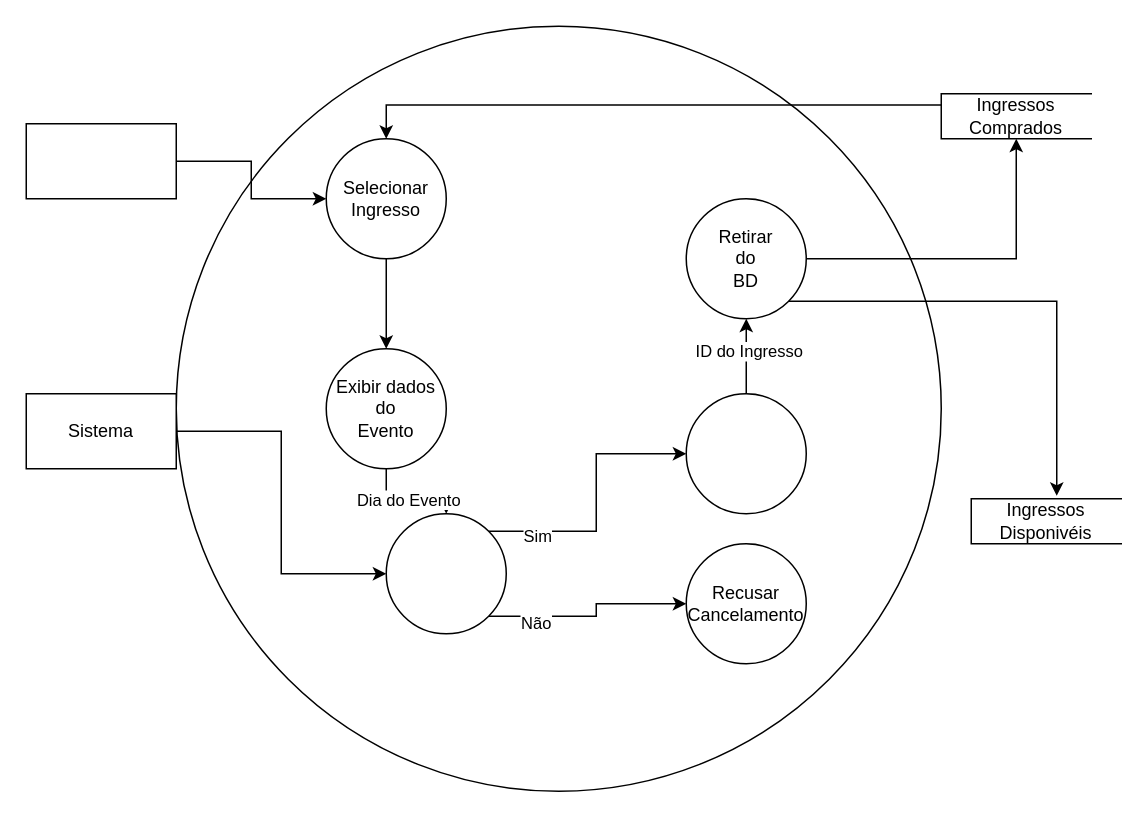
This 1148x818 diagram has some shape labels left out. The shapes that lost their labels are listed below. From the top down, each one's centre as x and y in pixels, then its label:
At point (100, 160): "Usuário".
At point (745, 453): "Aprovar Cancelamento".
At point (445, 573): "Calcular prazo para cancelamento".
